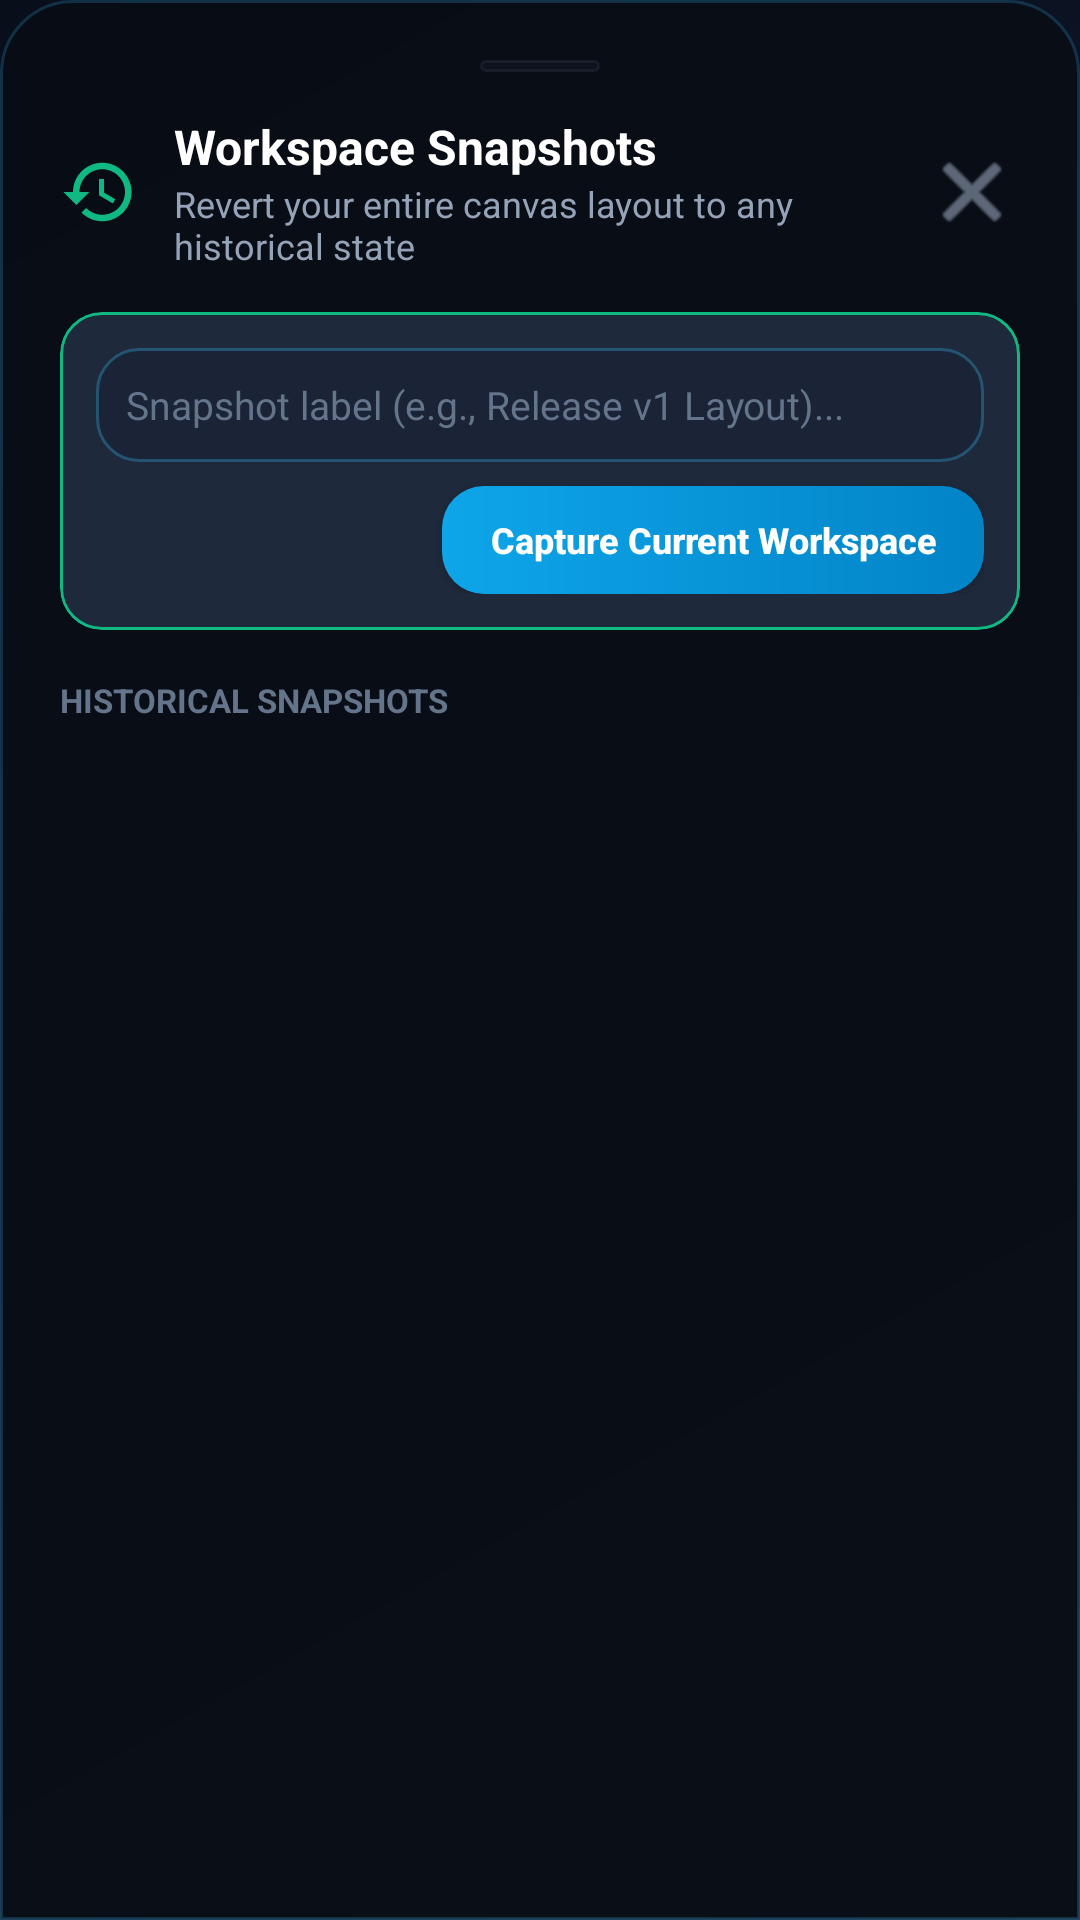

Where to tap for icons on this 1080 × 1920 app screen, as (x,y):
Close: (972,192)
